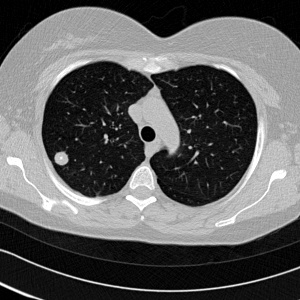PN: (54, 151, 68, 165)
